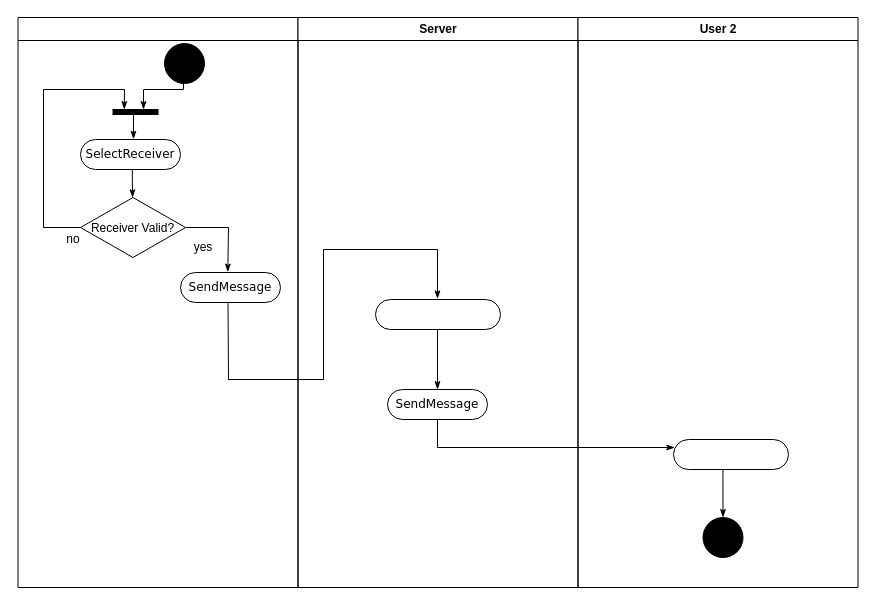
Some shapes in this 875 by 605 pixel diagram are drawn without their labels. The box of each missing label's shape, as (x1, y1, x2, y2) in pixels:
ReceiveMessage: (672, 438, 788, 470)
SaveMessagetoDB: (374, 298, 500, 330)
User 1: (17, 16, 298, 588)
